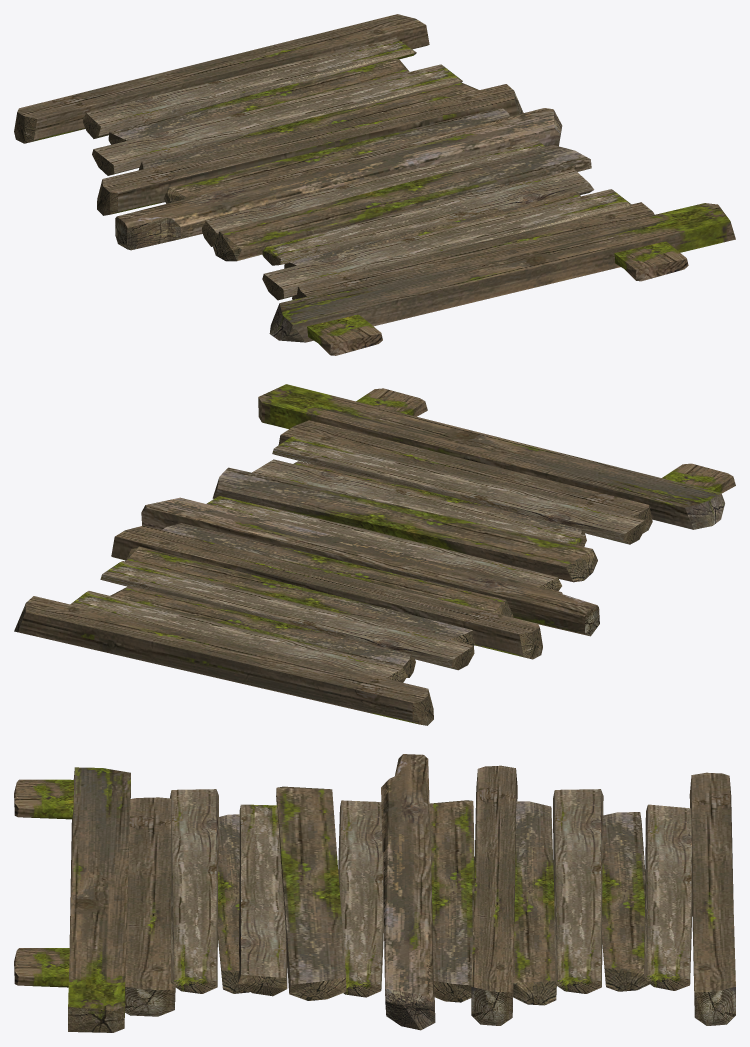
Rendered from bg_anh_mirrorv_logbridge01_a_sm_out.FBX.
3 renders of one model, top to bottom at view 1: azimuth 30°, elevation 25°; view 2: azimuth 150°, elevation 25°; view 3: azimuth 270°, elevation 25°, orthographic. The views are drawn at different scales.
Visible parts, largest first — view 1: bg_anh_mirrorv_logbridge01_a_sm_out; view 2: bg_anh_mirrorv_logbridge01_a_sm_out; view 3: bg_anh_mirrorv_logbridge01_a_sm_out.
Boxes of the visible parts, bbox=[...] form: bg_anh_mirrorv_logbridge01_a_sm_out: bbox=[14, 14, 735, 355]; bg_anh_mirrorv_logbridge01_a_sm_out: bbox=[14, 384, 735, 725]; bg_anh_mirrorv_logbridge01_a_sm_out: bbox=[14, 754, 735, 1032].
Size of the model in its own units: 372 by 23.98 by 443.
